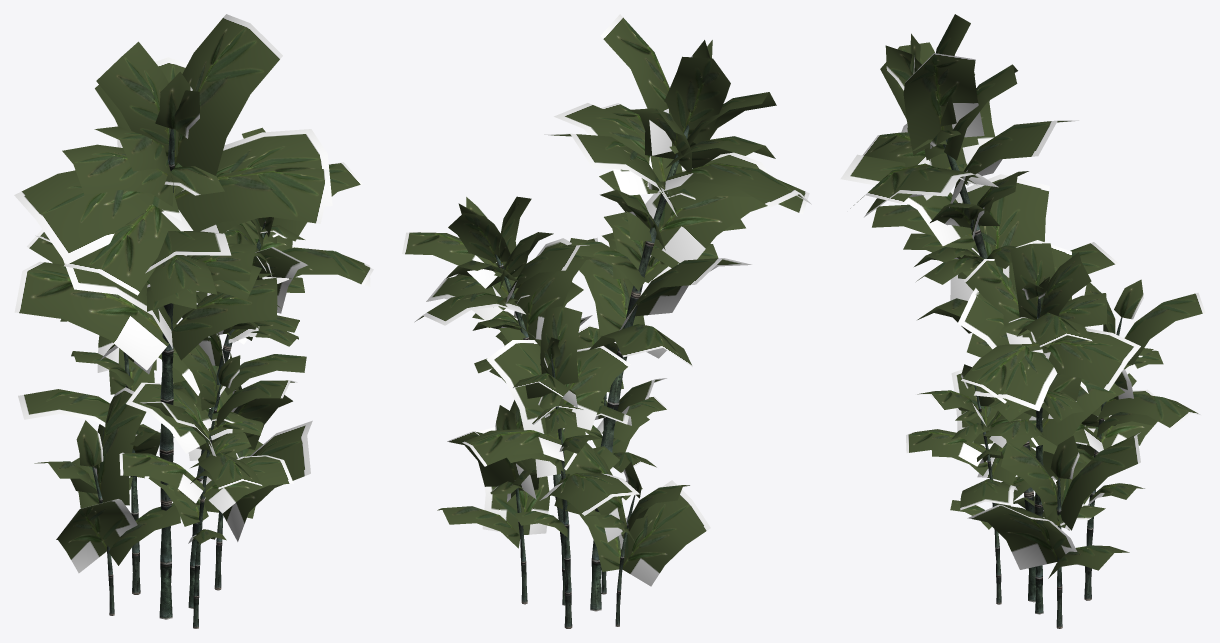
File: bamboo_type5_group1.FBX
The picture shows the model from 3 angles, left to right: view 1: azimuth 30°, elevation 25°; view 2: azimuth 150°, elevation 25°; view 3: azimuth 270°, elevation 25°; orthographic projection. The views are drawn at different scales.
Visible parts, largest first — view 1: bamboo_type5_group1; view 2: bamboo_type5_group1; view 3: bamboo_type5_group1.
Boxes of the visible parts, x1=… form: bamboo_type5_group1: x1=14, y1=14, x2=373, y2=628; bamboo_type5_group1: x1=402, y1=14, x2=811, y2=628; bamboo_type5_group1: x1=840, y1=14, x2=1205, y2=628.
Bounding box in the file's own units: 189 × 297 × 176.
Materials: 2 (2 with a texture image).
